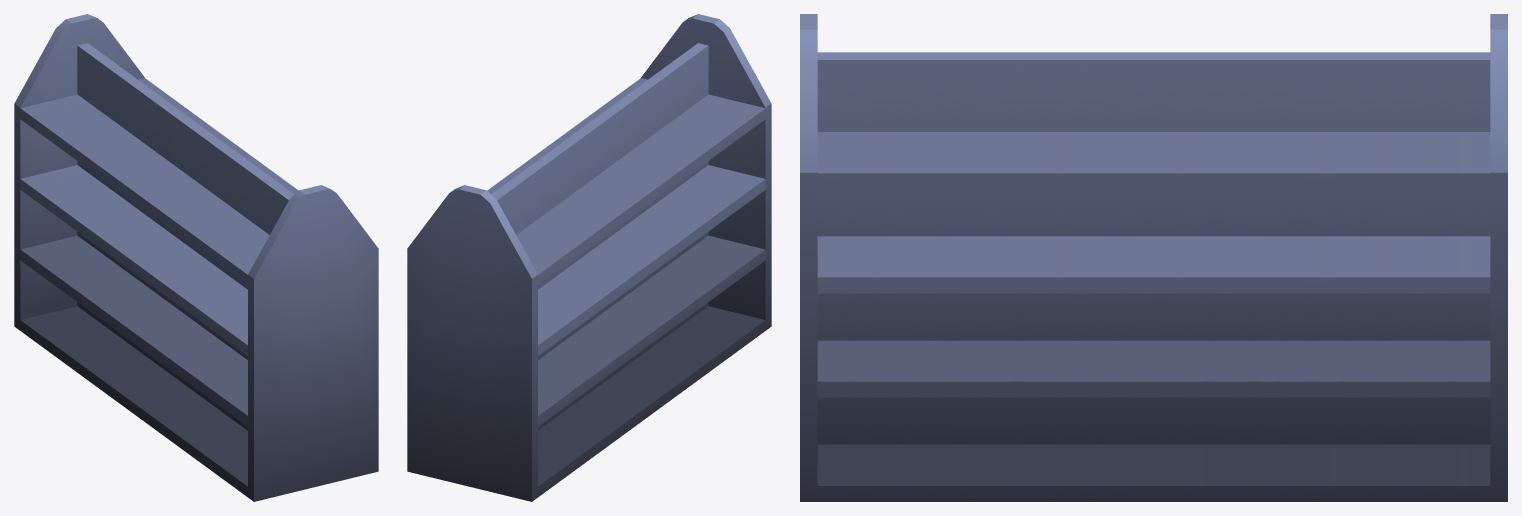
File: Shelf 1.fbx
The picture shows the model from 3 angles, left to right: view 1: azimuth 30°, elevation 25°; view 2: azimuth 150°, elevation 25°; view 3: azimuth 270°, elevation 25°; orthographic projection. The views are drawn at different scales.
Parts seen in each view (by area): view 1: Shelf; view 2: Shelf; view 3: Shelf.
Part boxes in pixels (x1,y1,x2,y2): Shelf: (14, 14, 378, 501); Shelf: (407, 14, 771, 501); Shelf: (800, 14, 1507, 501).
Bounding box in the file's own units: 120 × 400 × 271.
